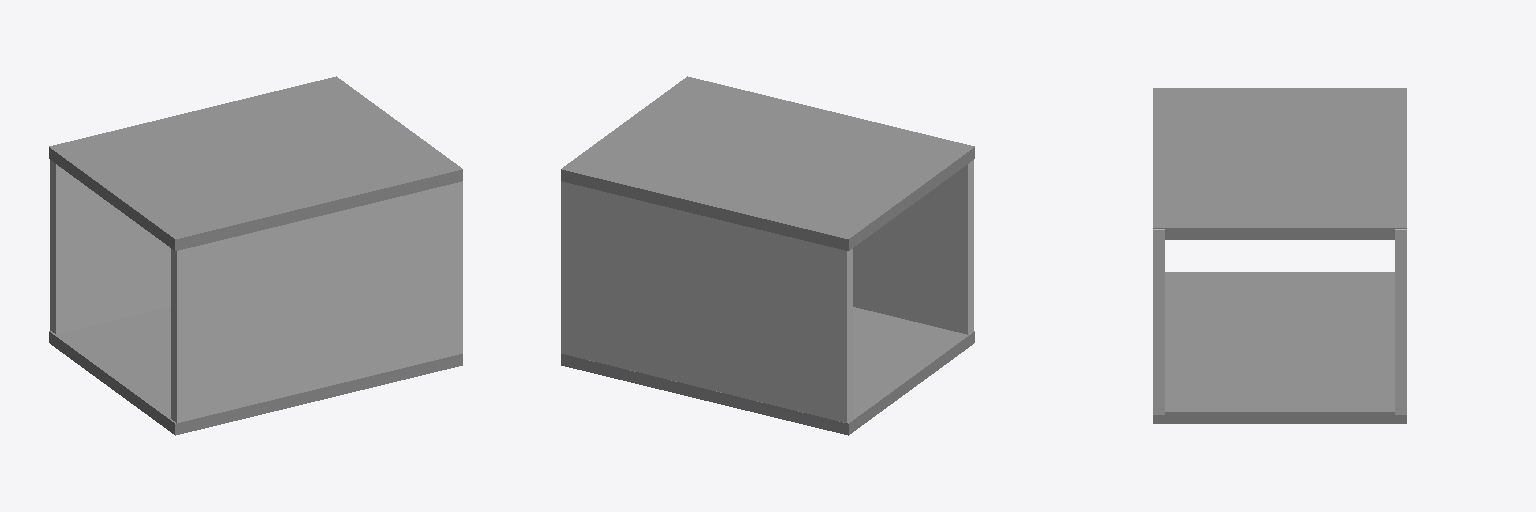
The model's file is cuberoom.obj.
3 views of the same model, side by side, from view 1: azimuth 30°, elevation 25°; view 2: azimuth 150°, elevation 25°; view 3: azimuth 270°, elevation 25° (orthographic).
Visible parts, largest first — view 1: Cube.003_Cube.004, Cube.004_Cube.005, Cube.002_Cube.003, Cube; view 2: Cube.002_Cube.003, Cube.004_Cube.005, Cube.003_Cube.004, Cube; view 3: Cube.004_Cube.005, Cube, Cube.003_Cube.004, Cube.002_Cube.003.
Part boxes in pixels (x1,y1,x2,y2): Cube.003_Cube.004: (171,181,462,422); Cube.004_Cube.005: (49,76,462,250); Cube.002_Cube.003: (50,160,170,334); Cube: (49,307,462,435); Cube.002_Cube.003: (561,181,852,422); Cube.004_Cube.005: (561,76,974,250); Cube.003_Cube.004: (853,160,973,334); Cube: (561,307,974,435); Cube.004_Cube.005: (1153,88,1406,239); Cube: (1153,272,1406,423); Cube.003_Cube.004: (1153,229,1164,414); Cube.002_Cube.003: (1395,229,1406,414).
Size of the model in its own units: 6.58 by 4.28 by 5.02.